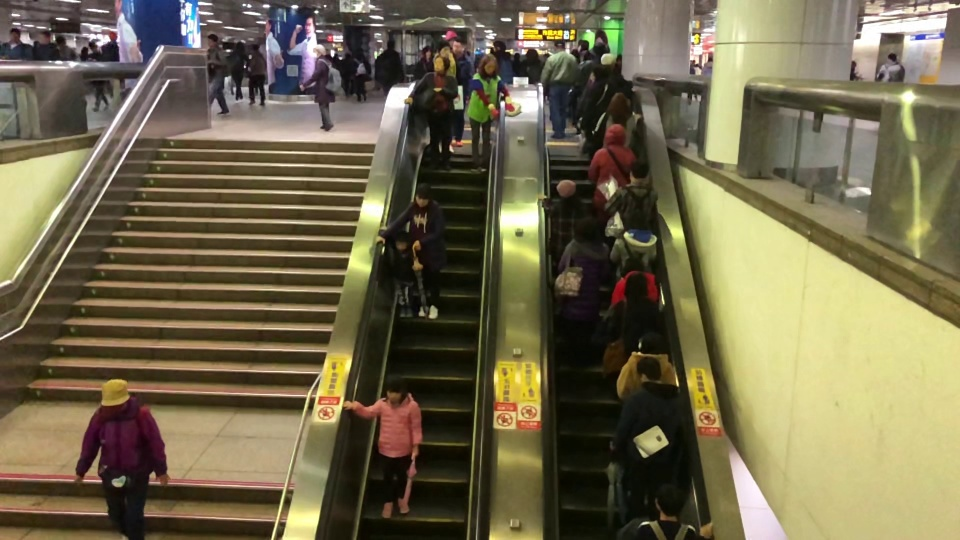person_head: (99, 378, 133, 414), (653, 482, 685, 518), (571, 212, 599, 246), (636, 355, 665, 386), (637, 331, 667, 358), (383, 371, 407, 403), (622, 272, 648, 301), (605, 89, 630, 118), (601, 122, 627, 149), (618, 253, 645, 279), (627, 157, 651, 186), (413, 180, 433, 208), (626, 207, 648, 231), (477, 53, 498, 78), (556, 177, 577, 198), (589, 60, 608, 83), (394, 228, 409, 251), (589, 42, 607, 61), (432, 54, 450, 72), (600, 51, 617, 69), (312, 41, 327, 59), (451, 37, 466, 55), (437, 41, 452, 58), (492, 37, 506, 54), (8, 26, 21, 44), (37, 29, 50, 46), (421, 44, 434, 60), (206, 31, 218, 48), (553, 40, 566, 55), (233, 39, 245, 53), (525, 48, 539, 59), (55, 35, 67, 47), (385, 38, 396, 51), (250, 40, 260, 53), (887, 53, 898, 64), (108, 29, 117, 42), (89, 41, 98, 53), (355, 46, 362, 56)
person_vbox: (72, 377, 172, 540), (607, 354, 687, 511), (340, 368, 423, 519), (376, 183, 447, 321), (555, 211, 609, 368), (403, 55, 460, 170), (604, 272, 665, 376), (464, 53, 516, 172), (535, 177, 588, 277), (588, 119, 638, 218), (630, 483, 713, 540), (605, 159, 658, 244), (613, 331, 676, 401), (539, 39, 578, 139), (608, 209, 658, 284), (378, 224, 417, 319), (297, 42, 338, 132), (575, 63, 627, 126), (591, 90, 642, 150), (450, 35, 474, 148), (611, 254, 659, 307), (205, 33, 231, 116), (573, 44, 611, 93), (374, 38, 405, 98), (86, 39, 109, 111), (598, 51, 633, 98), (491, 39, 521, 85), (247, 41, 267, 108), (229, 38, 249, 104), (0, 27, 35, 63), (350, 45, 371, 102), (518, 47, 543, 83), (33, 28, 61, 60), (433, 41, 456, 78), (55, 33, 81, 62), (413, 45, 435, 79), (885, 53, 905, 82), (101, 29, 119, 60)
